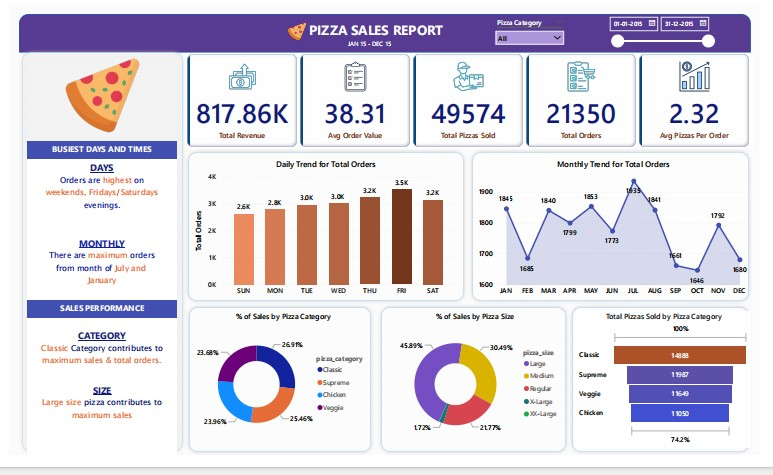

The dashboard page shown, as its layout file describes it:
{"tool":"powerbi","page":{"name":"Page 1","canvas":[1500,900],"ordinal":0},"visuals":[{"type":"cardVisual","fields":{"Data":["pizza_sales.Total Revenue","pizza_sales.Avg Order Value","pizza_sales.Total Pizzas Sold","pizza_sales.Total Orders","pizza_sales.Avg Pizzas Per Order"]},"box":[350,95,1135,193.3],"z":0},{"type":"shape","box":[18.3,18.3,1463.3,76.7],"z":1000},{"type":"textbox","box":[583.3,26.7,300,50],"z":2000},{"type":"textbox","box":[671.7,63.3,111.7,31.7],"z":3000},{"type":"image","box":[526.7,30,95,46.7],"z":4000},{"type":"shape","box":[350,288.3,565,310],"z":5000},{"type":"columnChart","title":"Daily Trend for Total Orders","fields":{"Category":["pizza_sales.Order Day"],"Y":["pizza_sales.Total Orders"]},"box":[366.7,308.3,531.7,281.7],"z":6000},{"type":"shape","box":[916.7,288.3,568.3,310],"z":6001},{"type":"areaChart","title":"Monthly Trend for Total Orders","fields":{"Category":["pizza_sales.Order Month"],"Y":["pizza_sales.Total Orders"]},"box":[933.3,308.3,548.3,281.7],"z":6002},{"type":"shape","box":[351.7,598.3,376.7,301.7],"z":6003},{"type":"shape","box":[735,598.3,383.3,301.7],"z":6004},{"type":"shape","box":[1118.3,598.3,366.7,301.7],"z":6005},{"type":"donutChart","title":"% of Sales by Pizza Category","fields":{"Category":["pizza_sales.pizza_category"],"Y":["pizza_sales.Total Revenue"]},"box":[366.7,611.7,361.7,273.3],"z":6006},{"type":"donutChart","title":"% of Sales by Pizza Size","fields":{"Y":["pizza_sales.Total Revenue"],"Series":["pizza_sales.pizza_size"]},"box":[750,611.7,361.7,273.3],"z":6007},{"type":"funnel","title":"Total Pizzas Sold by Pizza Category","fields":{"Category":["pizza_sales.pizza_category"],"Y":["pizza_sales.Total Pizzas Sold"]},"box":[1135,611.7,346.7,273.3],"z":6008},{"type":"shape","box":[18.3,88.3,333.3,811.7],"z":6009},{"type":"slicer","fields":{"Values":["pizza_sales.pizza_category"]},"box":[961.7,21.7,156.7,61.7],"z":6015},{"type":"slicer","title":"ORDER DATE","fields":{"Values":["pizza_sales.order_date"]},"box":[1186.7,0,231.7,100],"z":6016},{"type":"image","box":[35,100,300,163.3],"z":6017},{"type":"textbox","box":[35,271.7,300,36.7],"z":6018},{"type":"textbox","box":[35,308.3,300,281.7],"z":6019},{"type":"textbox","box":[35,590,300,36.7],"z":6020},{"type":"textbox","box":[35,626.7,300,273.3],"z":6021}]}

Visuals, with their boxes in screenshot pixels (x1, y1, x2, y2), scaled from the page's 1500x900 canvas onto the 773x475 screenshot:
cardVisual - pizza_sales.Total Revenue x pizza_sales.Avg Order Value: (x1=180, y1=50, x2=765, y2=152)
shape: (x1=9, y1=10, x2=764, y2=50)
textbox: (x1=301, y1=14, x2=455, y2=40)
textbox: (x1=346, y1=33, x2=404, y2=50)
image: (x1=271, y1=16, x2=320, y2=40)
shape: (x1=180, y1=152, x2=472, y2=316)
"Daily Trend for Total Orders" columnChart: (x1=189, y1=163, x2=463, y2=311)
shape: (x1=472, y1=152, x2=765, y2=316)
"Monthly Trend for Total Orders" areaChart: (x1=481, y1=163, x2=764, y2=311)
shape: (x1=181, y1=316, x2=375, y2=474)
shape: (x1=379, y1=316, x2=576, y2=474)
shape: (x1=576, y1=316, x2=765, y2=474)
"% of Sales by Pizza Category" donutChart: (x1=189, y1=323, x2=375, y2=467)
"% of Sales by Pizza Size" donutChart: (x1=386, y1=323, x2=573, y2=467)
"Total Pizzas Sold by Pizza Category" funnel: (x1=585, y1=323, x2=764, y2=467)
shape: (x1=9, y1=47, x2=181, y2=474)
slicer - pizza_sales.pizza_category: (x1=496, y1=11, x2=576, y2=44)
"ORDER DATE" slicer: (x1=612, y1=0, x2=731, y2=53)
image: (x1=18, y1=53, x2=173, y2=139)
textbox: (x1=18, y1=143, x2=173, y2=163)
textbox: (x1=18, y1=163, x2=173, y2=311)
textbox: (x1=18, y1=311, x2=173, y2=331)
textbox: (x1=18, y1=331, x2=173, y2=474)
